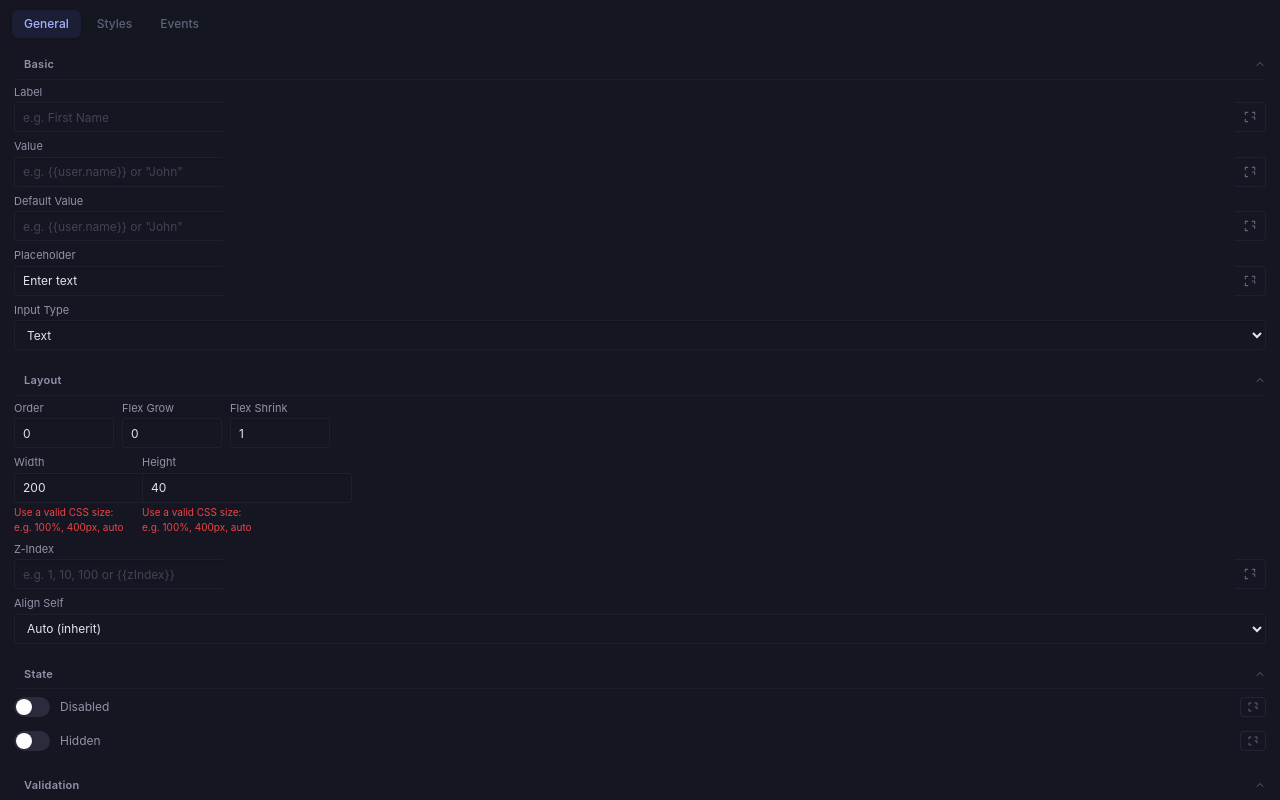
Test: PropertiesPanelCore - Property Tabs › should show styling properties in Styles tab
The image size is (1280, 800).
Click the tab "Styles": (114, 24) top-left (85, 10), bottom-right (144, 38)
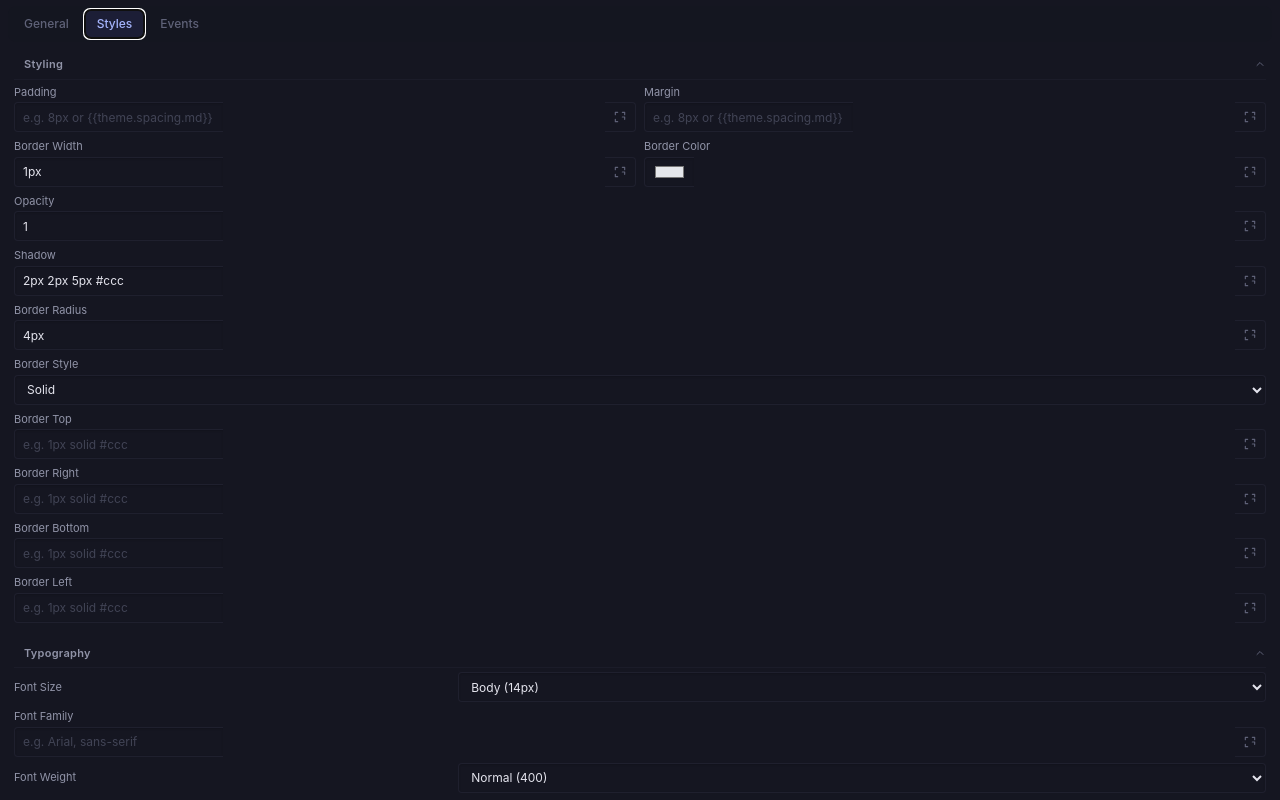
Now the text "Styling" is shown, box top-left (24, 56), bottom-right (63, 72)
Now the field labelled "Opacity" is shown, box top-left (14, 211), bottom-right (223, 241)
Now the field labelled "Shadow" is shown, box top-left (14, 266), bottom-right (223, 296)
